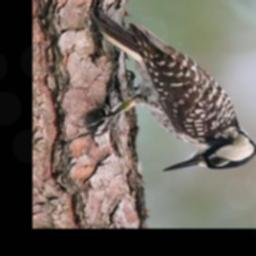Woodpecker: (79, 8, 256, 173)
